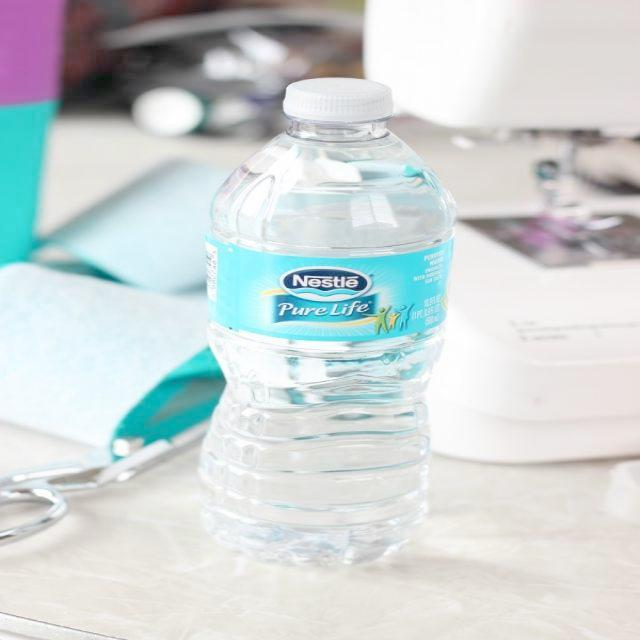bottle: (194, 78, 459, 573)
